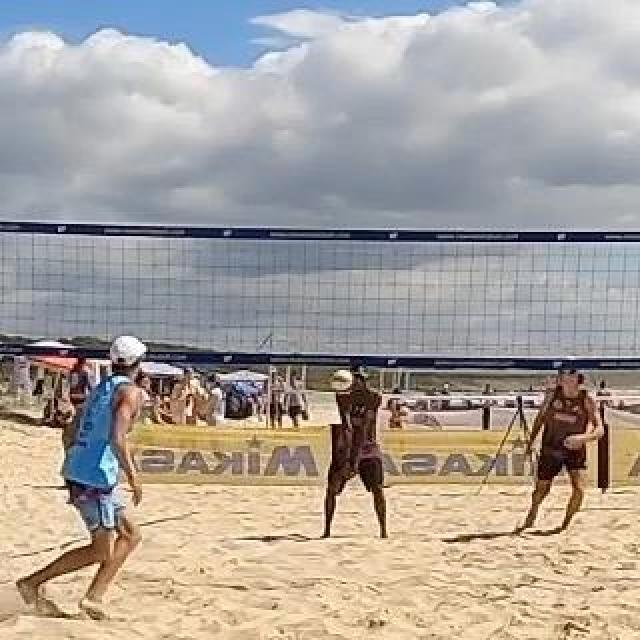volleyball: (331, 368, 355, 394)
